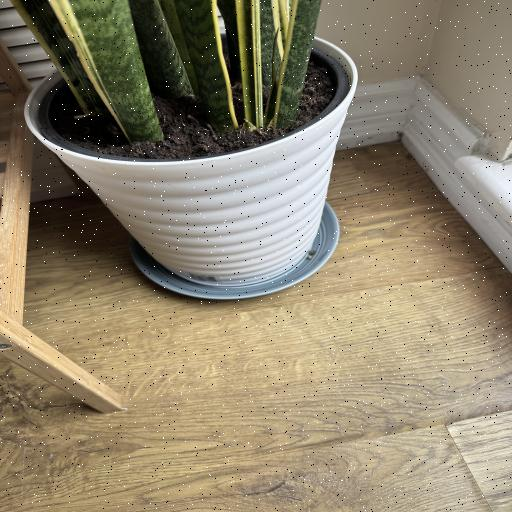Plant Pot: (23, 26, 364, 282)
